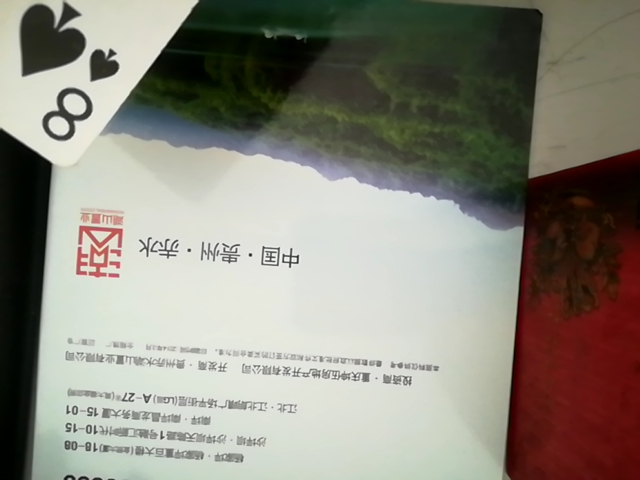ht 8: (0, 1, 483, 190)
